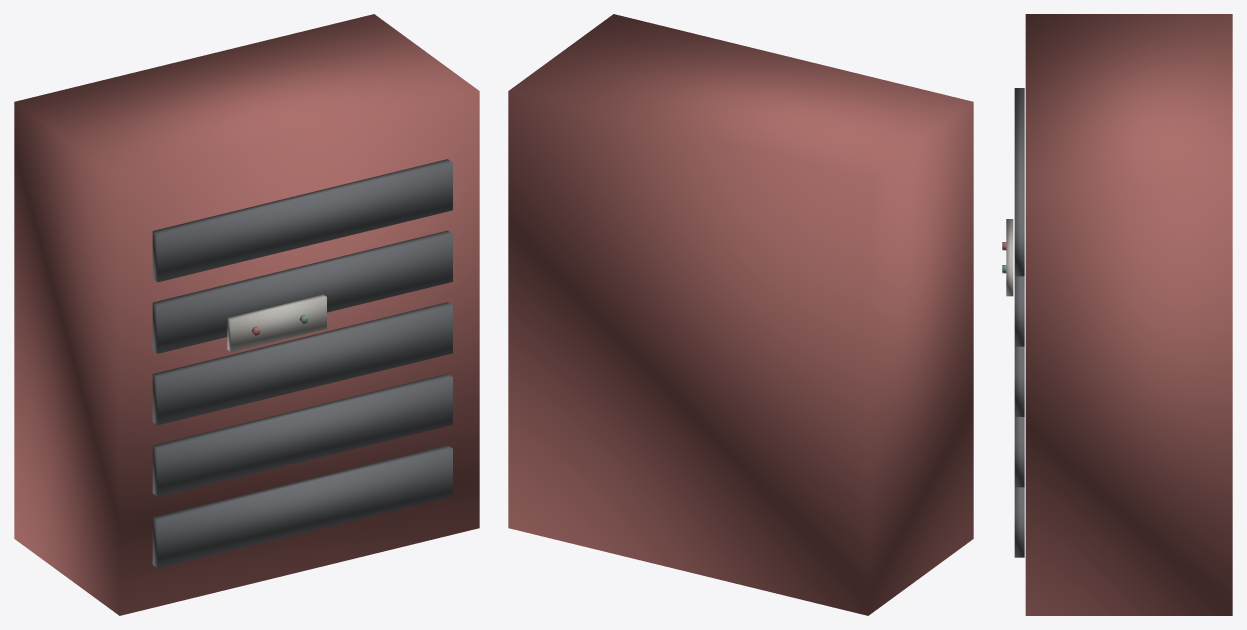
The model's file is tool_cabinet__compact.glb.
3 renders of one model, left to right at view 1: azimuth 30°, elevation 25°; view 2: azimuth 150°, elevation 25°; view 3: azimuth 270°, elevation 25°, orthographic.
Visible parts, largest first — view 1: world; view 2: world; view 3: world.
Boxes of the visible parts, x1,y1,x2,y2 form: world: (14,14,479,615); world: (508,14,973,615); world: (1002,14,1232,615).
Bounding box in the file's own units: 0.882 × 1.02 × 0.4975.
